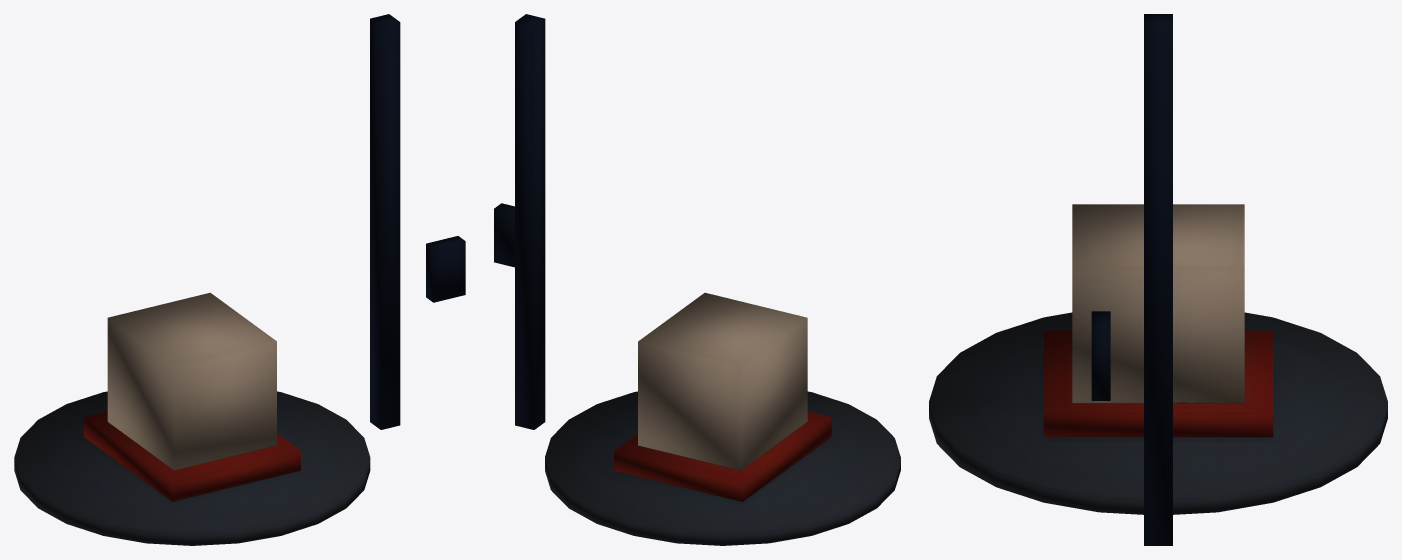
The model's file is yard-stretch-wrap-body-tripo-original.glb.
The picture shows the model from 3 angles, left to right: view 1: azimuth 30°, elevation 25°; view 2: azimuth 150°, elevation 25°; view 3: azimuth 270°, elevation 25°; orthographic projection. The views are drawn at different scales.
Parts seen in each view (by area): view 1: Authored_surface_026; view 2: Authored_surface_026; view 3: Authored_surface_026.
Part boxes in pixels (x1,y1,x2,y2): Authored_surface_026: [14, 14, 465, 545]; Authored_surface_026: [494, 14, 900, 545]; Authored_surface_026: [929, 14, 1387, 545].
Size of the model in its own units: 1 by 0.96 by 0.768.
1 material, 1 textured.
